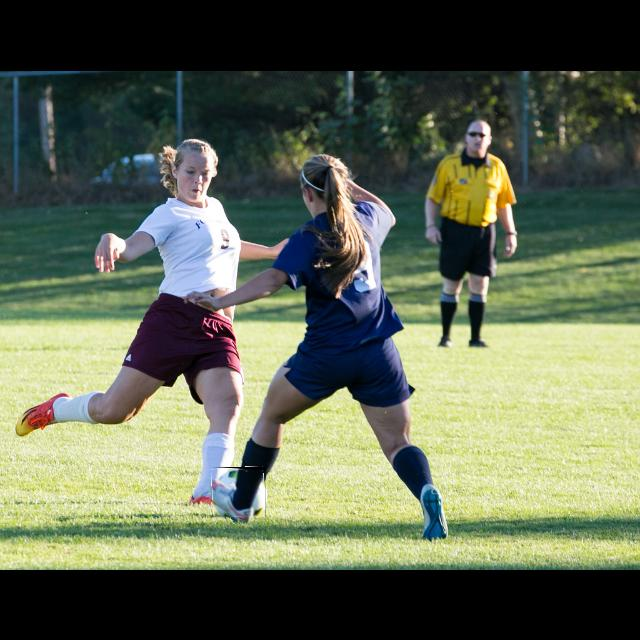Football: (212, 467, 266, 517)
